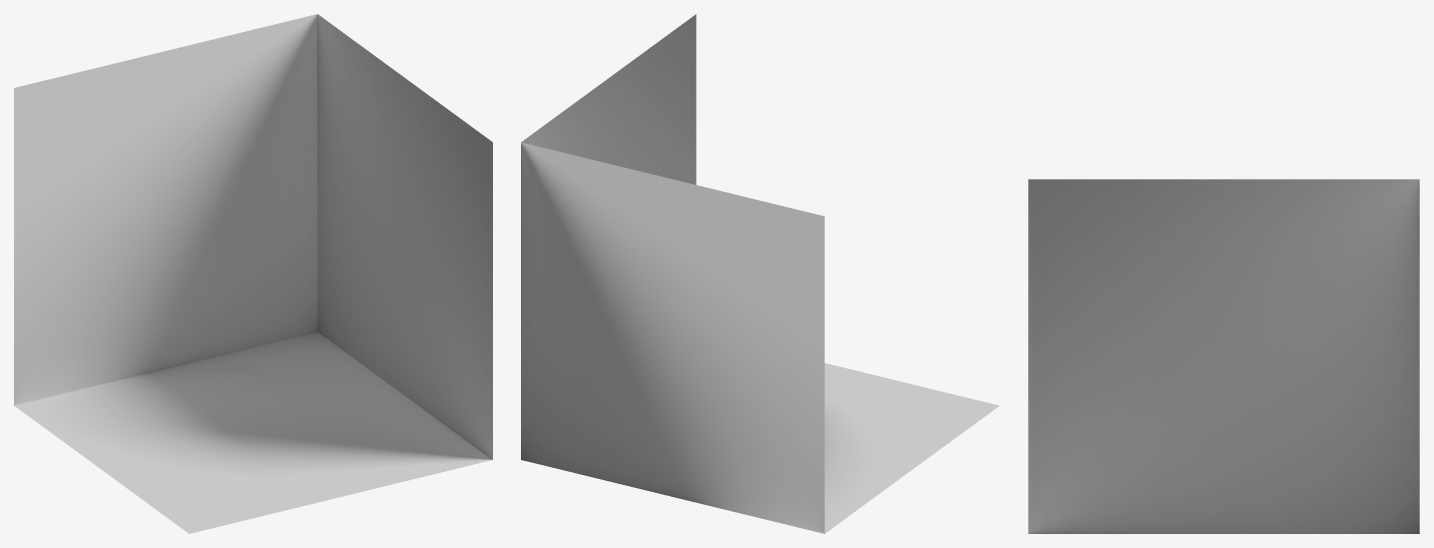
Rendered from BackgroundInstance.glb.
3 views of the same model, side by side, from view 1: azimuth 30°, elevation 25°; view 2: azimuth 150°, elevation 25°; view 3: azimuth 270°, elevation 25° (orthographic). The views are drawn at different scales.
Visible parts, largest first — view 1: Cube.001_Baked; view 2: Cube.001_Baked; view 3: Cube.001_Baked.
Boxes of the visible parts, x1,y1,x2,y2 form: Cube.001_Baked: (14,14,492,533); Cube.001_Baked: (521,14,999,533); Cube.001_Baked: (1028,179,1419,533).
Size of the model in its own units: 1 by 1 by 1.
1 material, 1 textured.
